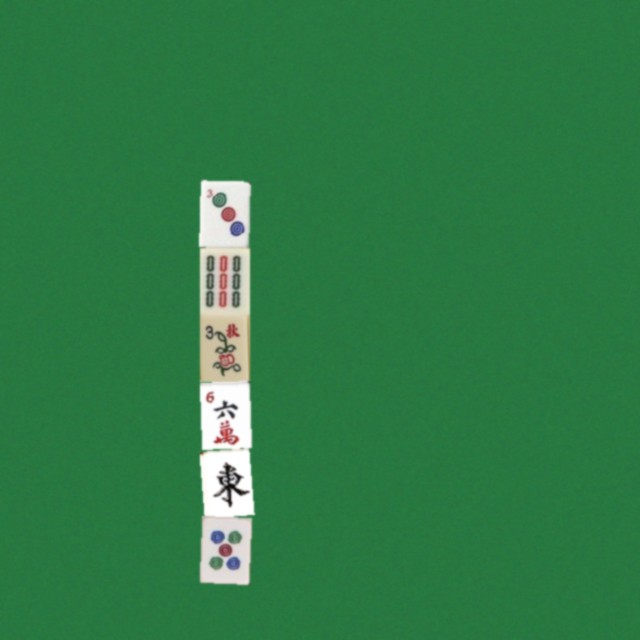tile: (199, 180, 249, 247), (199, 247, 249, 314), (199, 314, 249, 381), (199, 381, 249, 448), (199, 448, 249, 515), (199, 515, 249, 582)
